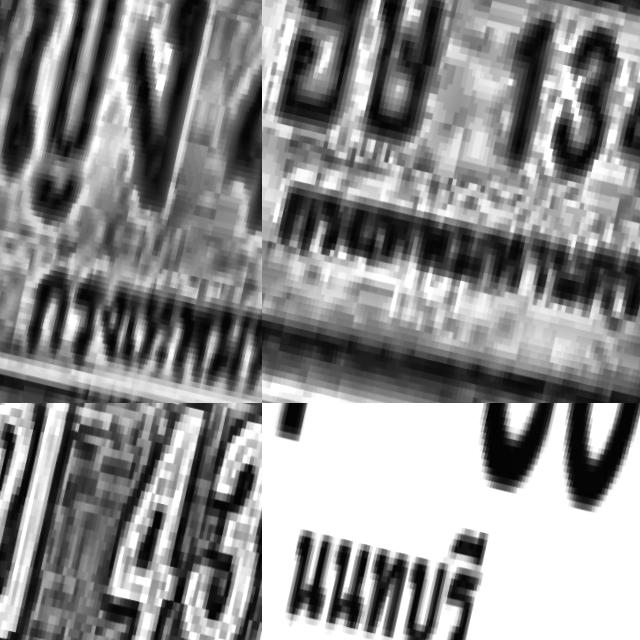license-plate: (262, 0, 640, 403), (0, 0, 262, 403), (262, 403, 640, 640), (0, 403, 262, 640)
